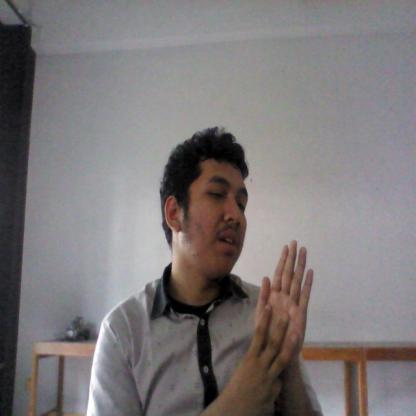M: (238, 236, 322, 408)
